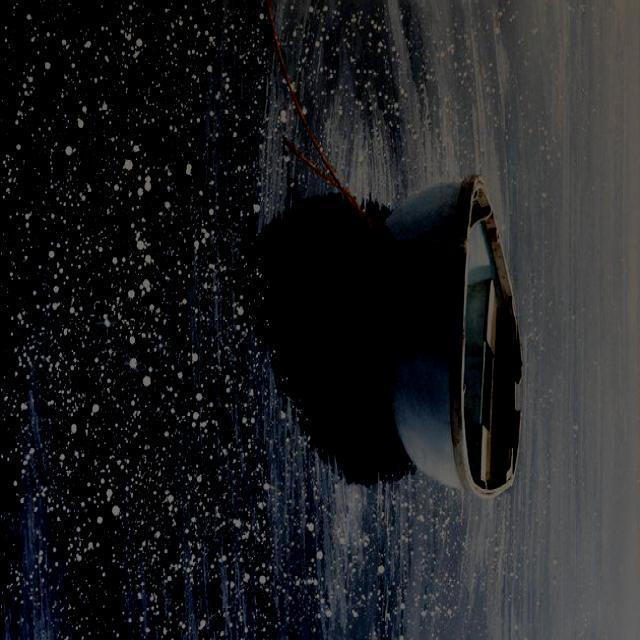ship: (348, 165, 530, 508)
